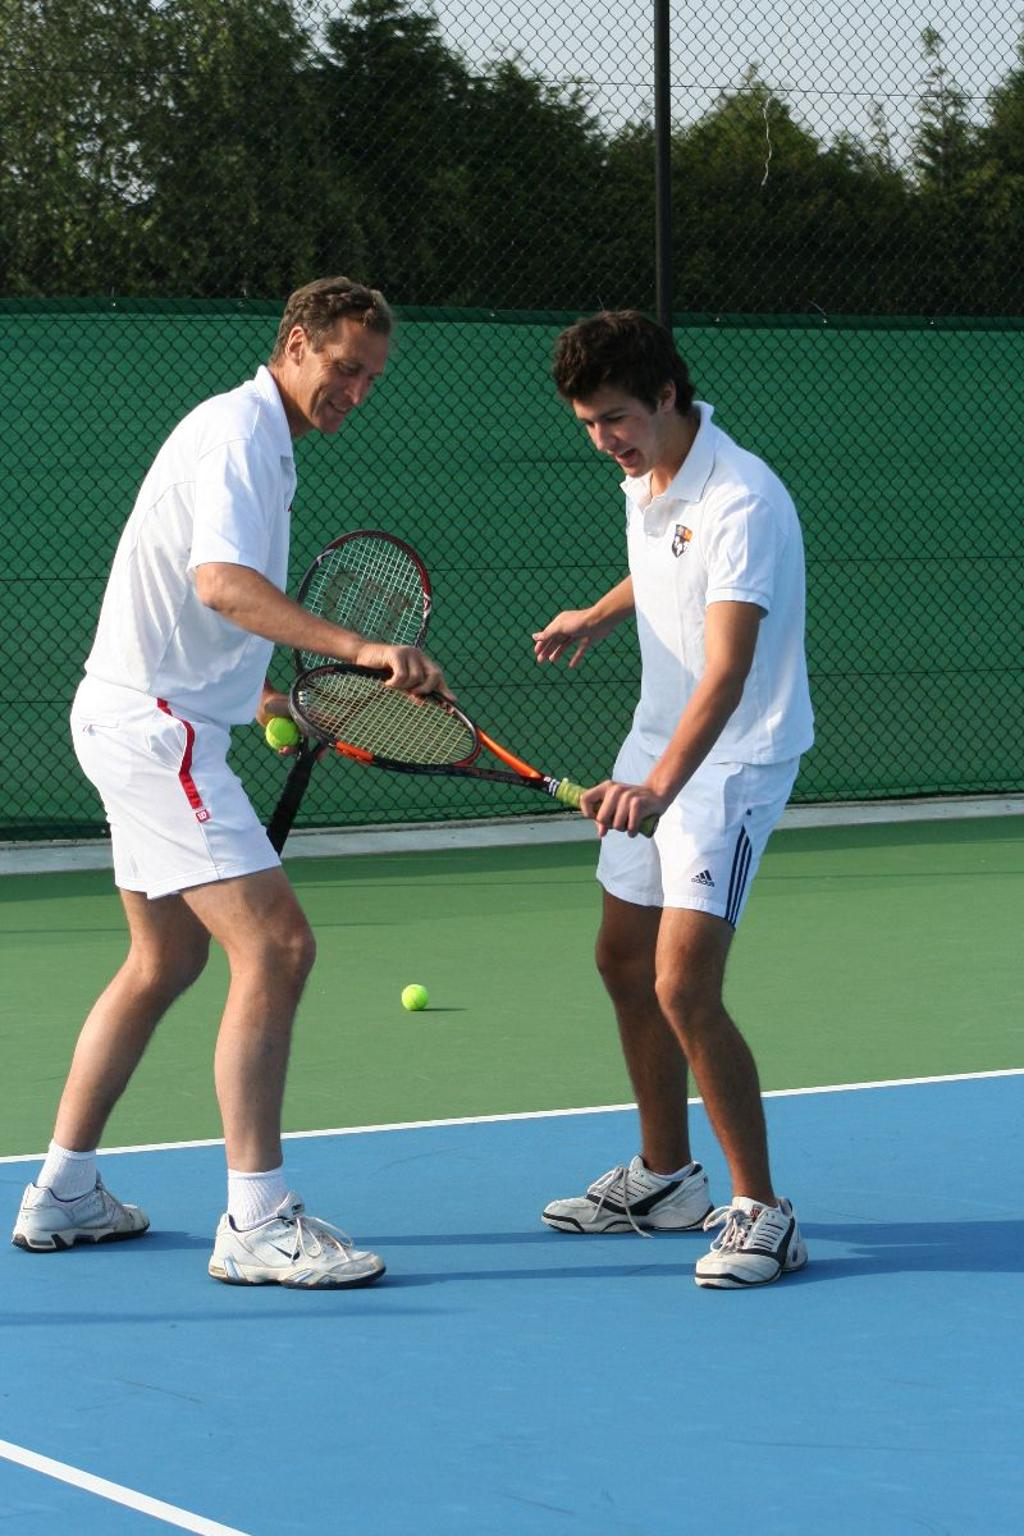face: (306, 318, 390, 438), (571, 390, 664, 480)
